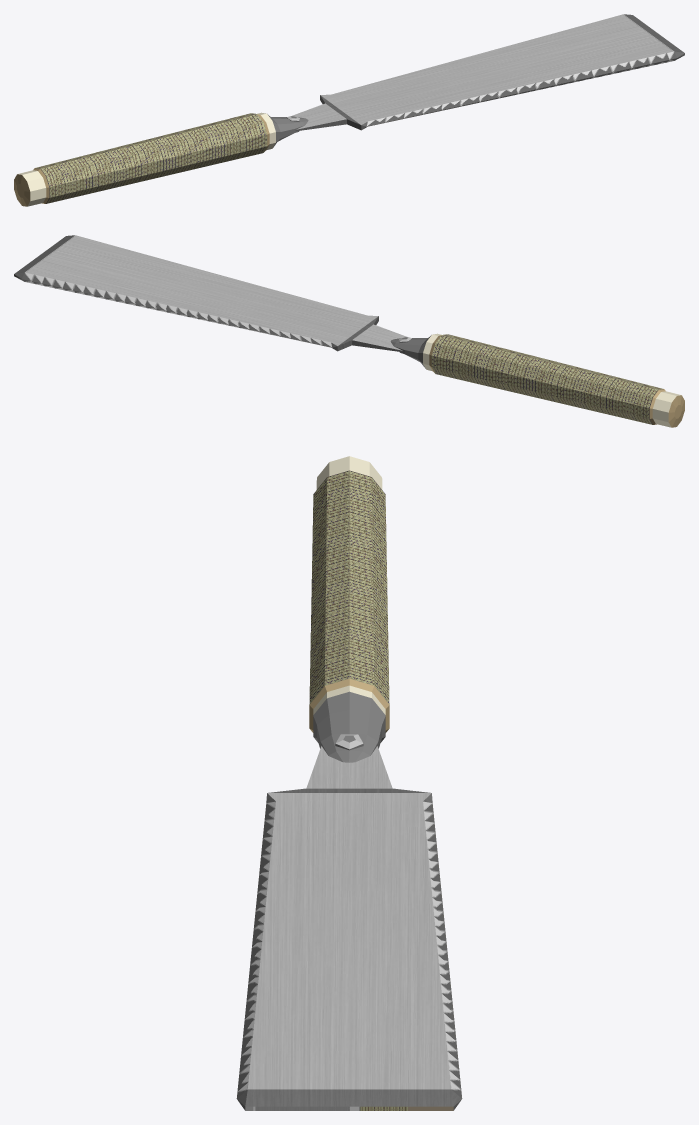
File: WorldItem_RyobaSaw.fbx
3 renders of one model, top to bottom at view 1: azimuth 30°, elevation 25°; view 2: azimuth 150°, elevation 25°; view 3: azimuth 270°, elevation 25°, orthographic. The views are drawn at different scales.
Parts seen in each view (by area): view 1: ZomboidRyobaSaw; view 2: ZomboidRyobaSaw; view 3: ZomboidRyobaSaw.
Boxes of the visible parts, x1,y1,x2,y2 form: ZomboidRyobaSaw: [14, 14, 684, 206]; ZomboidRyobaSaw: [14, 235, 684, 427]; ZomboidRyobaSaw: [236, 456, 462, 1110].
Bounding box in the file's own units: 0.5019 × 0.0287 × 0.0768.
